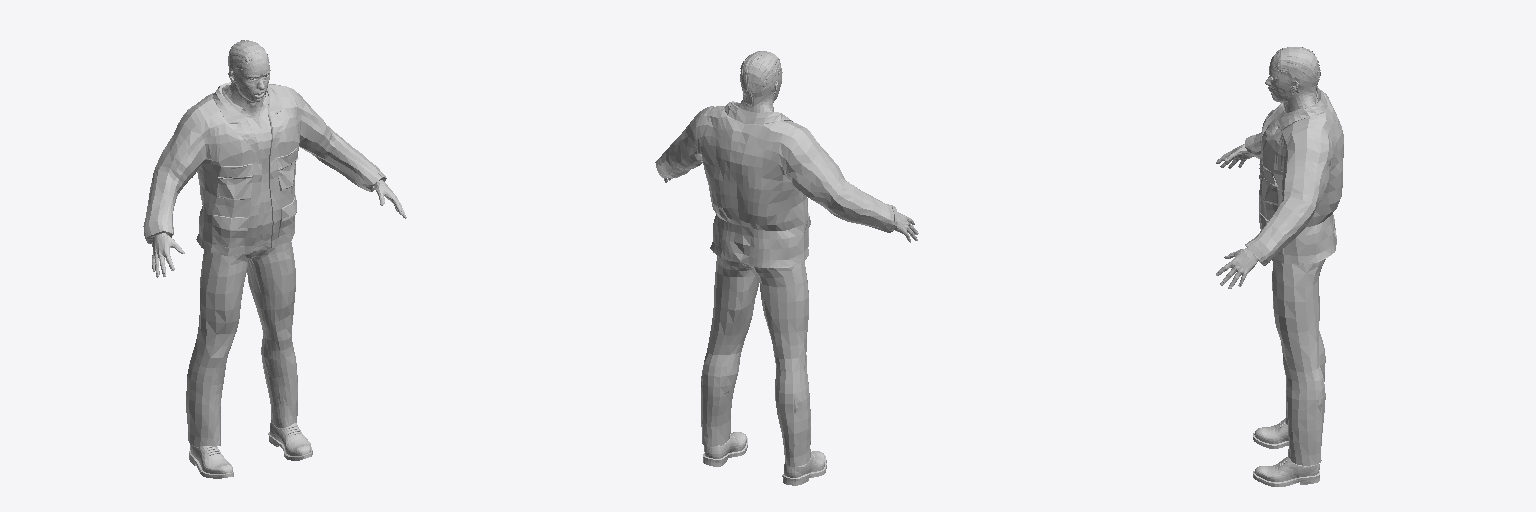
The picture shows the model from 3 angles: view 1: azimuth 30°, elevation 25°; view 2: azimuth 150°, elevation 25°; view 3: azimuth 270°, elevation 25°; orthographic projection.
Parts seen in each view (by area): view 1: Ml1:Male_casualsuit05, Ml1:Body, Ml1:Shoes03, Ml1:Short04; view 2: Ml1:Male_casualsuit05, Ml1:Short04, Ml1:Shoes03, Ml1:Body; view 3: Ml1:Male_casualsuit05, Ml1:Body, Ml1:Shoes03, Ml1:Short04.
Part boxes in pixels (bbox=[...]): Ml1:Male_casualsuit05: bbox=[143, 82, 386, 446]; Ml1:Body: bbox=[152, 61, 406, 277]; Ml1:Shoes03: bbox=[189, 420, 312, 478]; Ml1:Short04: bbox=[228, 40, 269, 85]; Ml1:Male_casualsuit05: bbox=[655, 101, 898, 466]; Ml1:Short04: bbox=[740, 51, 781, 107]; Ml1:Shoes03: bbox=[703, 432, 826, 485]; Ml1:Body: bbox=[664, 72, 918, 242]; Ml1:Male_casualsuit05: bbox=[1245, 87, 1343, 465]; Ml1:Body: bbox=[1216, 59, 1316, 288]; Ml1:Shoes03: bbox=[1253, 418, 1319, 486]; Ml1:Short04: bbox=[1272, 47, 1320, 95].
Bounding box in the file's own units: 1.31 × 2.08 × 0.5843.